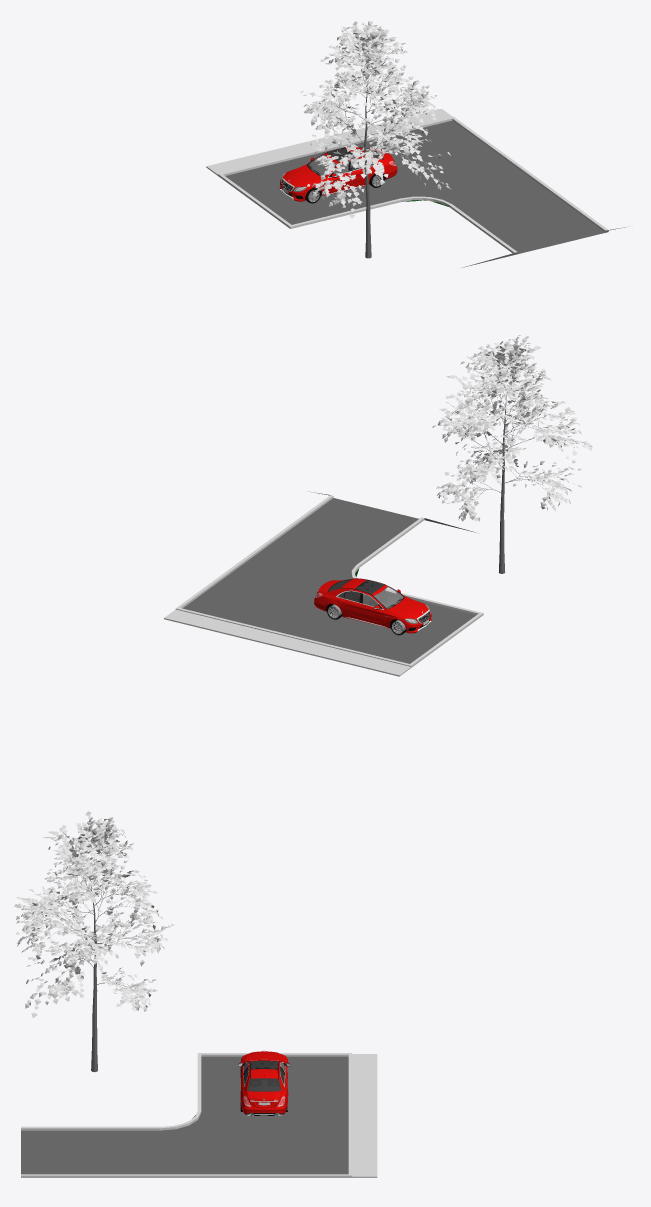
Rendered from Sitte_Option_2.glb.
3 views of the same model, one above another, from view 1: azimuth 30°, elevation 25°; view 2: azimuth 150°, elevation 25°; view 3: azimuth 270°, elevation 25° (orthographic). The views are drawn at different scales.
Visible parts, largest first — view 1: Site_2, Sapling_Populus-tremuloides_A_summer.001, Benz.002; view 2: Site_2, Sapling_Populus-tremuloides_A_summer.001, Benz.002; view 3: Site_2, Sapling_Populus-tremuloides_A_summer.001, Benz.002.
Part boxes in pixels (x1,y1,x2,y2): Site_2: (206,109,628,267); Sapling_Populus-tremuloides_A_summer.001: (300,21,450,258); Benz.002: (279,147,397,203); Site_2: (164,492,483,676); Sapling_Populus-tremuloides_A_summer.001: (432,335,592,573); Benz.002: (314,578,431,635); Site_2: (21,1053,377,1177); Sapling_Populus-tremuloides_A_summer.001: (14,811,174,1072); Benz.002: (238,1050,290,1115).
Bounding box in the file's own units: 16.54 × 11.02 × 24.95.
